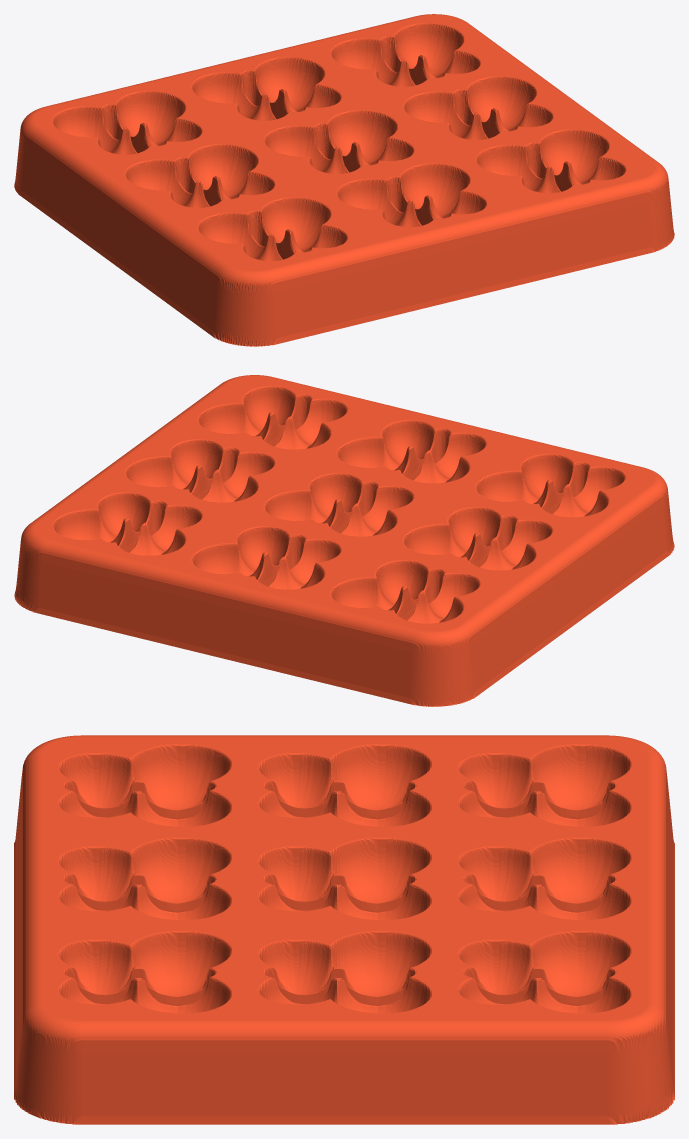
The model's file is mold.glb.
The picture shows the model from 3 angles, top to bottom: view 1: azimuth 30°, elevation 25°; view 2: azimuth 150°, elevation 25°; view 3: azimuth 270°, elevation 25°; orthographic projection. The views are drawn at different scales.
Visible parts, largest first — view 1: geometry_0; view 2: geometry_0; view 3: geometry_0.
Part boxes in pixels (bbox=[...]): geometry_0: bbox=[14, 14, 674, 346]; geometry_0: bbox=[14, 375, 674, 706]; geometry_0: bbox=[14, 735, 674, 1124].
Bounding box in the file's own units: 0.0964 × 0.0136 × 0.088.
